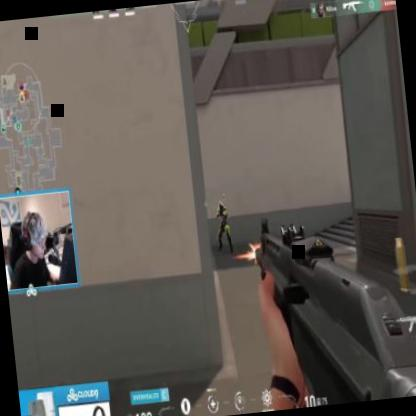enemy: (212, 199, 233, 255)
enemy_head: (218, 200, 224, 210)
